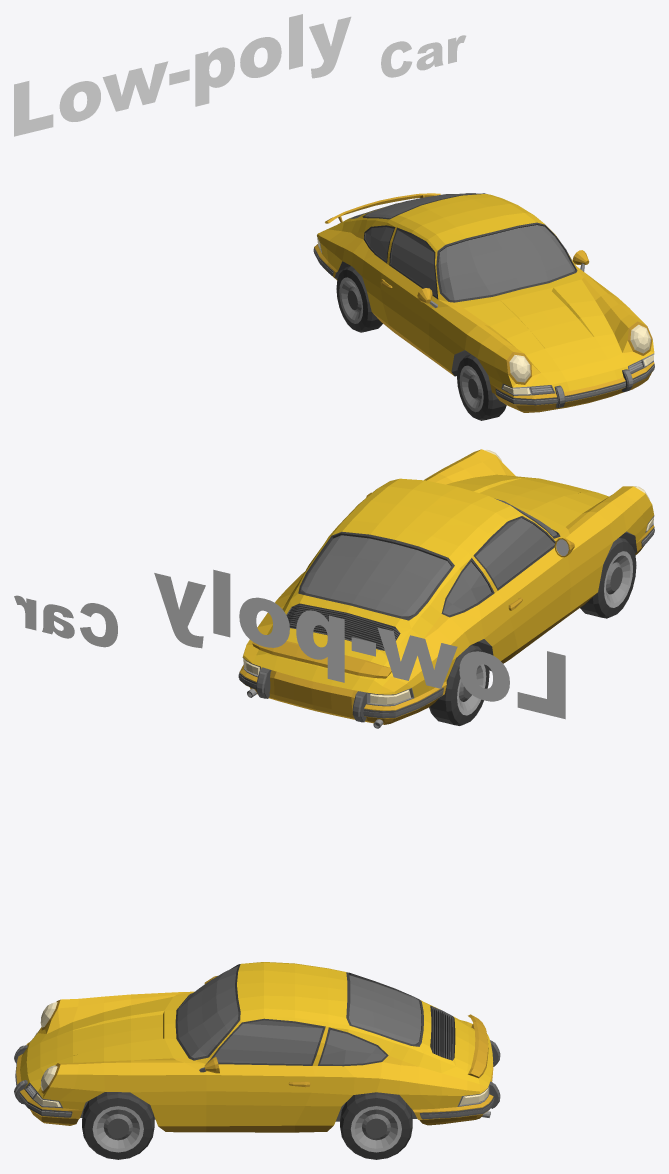
File: free_pack_-_car.glb
3 views of the same model, one above another, from view 1: azimuth 30°, elevation 25°; view 2: azimuth 150°, elevation 25°; view 3: azimuth 270°, elevation 25° (orthographic). The views are drawn at different scales.
Visible parts, largest first — view 1: SM_Car_Body, Text, SM_Car_WheelF, SM_Car_WheelR; view 2: SM_Car_Body, Text, SM_Car_WheelF, SM_Car_WheelR; view 3: SM_Car_Body, SM_Car_WheelR, SM_Car_WheelF.
Part boxes in pixels (x1,y1,x2,y2): SM_Car_Body: (313,193,654,412); Text: (14,14,466,136); SM_Car_WheelF: (457,354,506,420); SM_Car_WheelR: (336,266,382,332); SM_Car_Body: (238,449,654,728); Text: (14,569,565,719); SM_Car_WheelF: (580,537,636,618); SM_Car_WheelR: (429,645,489,725); SM_Car_Body: (14,962,500,1132); SM_Car_WheelR: (340,1092,412,1159); SM_Car_WheelF: (82,1092,154,1159).
Bounding box in the file's own units: 4.77 × 2.04 × 5.47.
2 materials, 1 textured.
